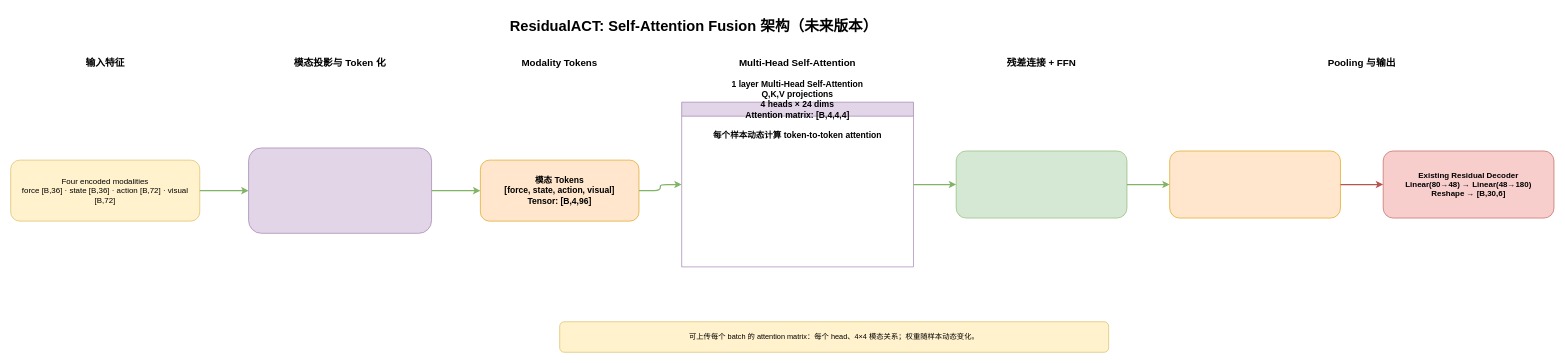
This 1565x363 diagram has some shape labels left out. The centre of each missing label's shape, as x and y in pixels:
"Mean pooling / action pooling [B,4,96] → [B,96] Linear → [B,80]" belongs at (x=1254, y=184).
"Modality-specific projections Linear → 96 dims each + modality embeddings" belongs at (x=340, y=190).
"Residual + LayerNorm FFN + Residual + LayerNorm" belongs at (x=1041, y=184).
